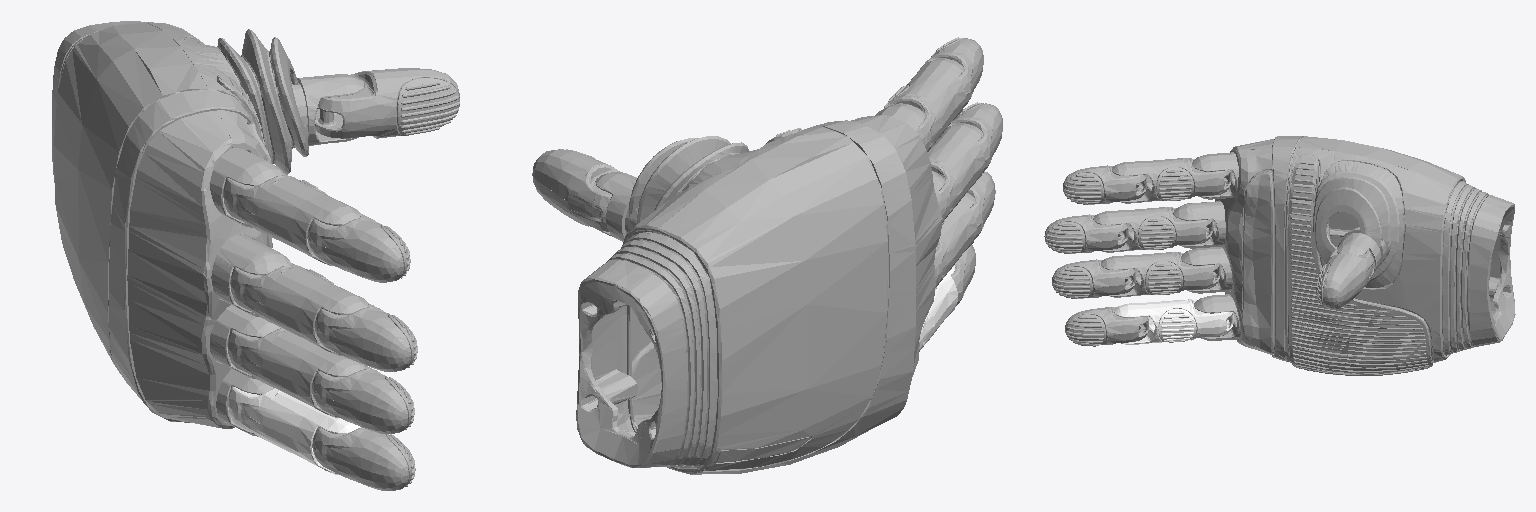
The robot description file, URDF, robot "walkerx_rhand":
<?xml version="1.0" encoding="utf-8"?>
<robot
  name="walkerx_rhand">
  <link name="world"/>

  <link
    name="rhandbase_link">
    <inertial>
      <origin
        xyz="-0.377843 -0.239831 -0.010788"
        rpy="0 0 0" />
      <mass
        value="0.593" />
      <inertia
        ixx="1.30E-03"
        ixy="2.47E-04"
        ixz="-1.57E-05"
        iyy="5.23E-04"
        iyz="-1.29E-05"
        izz="1.06E-03" />
    </inertial>
    <visual>
      <origin
        xyz="0 0 0"
        rpy="0 0 0" />
      <geometry>
        <mesh
          filename="package://walkerx_rhand/meshes/base.obj" />
      </geometry>
      <material
        name="">
        <color
          rgba="0.75294 0.75294 0.75294 1" />
      </material>
    </visual>
    <collision>
      <origin
        xyz="-0.378 -0.24 -0.009"
        rpy="0 0 -0.261799" />
      <geometry>
        <box size = "0.05 0.14 0.1" />
      </geometry>
    </collision>
  </link>

  <joint
    name="base"
    type="fixed">
    <origin
      xyz="0.3631635 0.1889378 0.010499"
      rpy="0 0 0" />
    <parent
      link="world" />
    <child
      link="rhandbase_link" />
    <axis
      xyz="0 0 0" />
  </joint>


  <link
    name="rfirstfinger1_1">
    <inertial>
      <origin
        xyz="0.016949 -0.005689 -0.0016081"
        rpy="0 0 0" />
      <mass
        value="0.001" />
      <inertia
        ixx="1.0E-09"
        ixy="1.0E-09"
        ixz="1.0E-09"
        iyy="1.0E-09"
        iyz="1.0E-09"
        izz="1.0E-09" />
    </inertial>    
    <collision>
      <origin
        xyz="0 0 0"
        rpy="0 0 0" />
      <geometry>
        <sphere radius="0.001" />
      </geometry>
    </collision>
  </link>
  <joint
    name="rfirst1_1"
    type="revolute">
    <origin
      xyz="-0.36621 -0.23404 0.01213"
      rpy="0 0 0" />
    <parent
      link="rhandbase_link" />
    <child
      link="rfirstfinger1_1" />
    <axis
      xyz="-0.068161 -0.99767 0" />
    <limit
      lower="-0.5"
      upper="0.5"
      effort="0.5"
      velocity="3.14" />
  </joint>
  <link
    name="rfirstfinger1_2">
    <inertial>
      <origin
        xyz="0.016949 -0.005689 -0.0016081"
        rpy="0 0 0" />
      <mass
        value="0.001" />
      <inertia
        ixx="1.0E-09"
        ixy="1.0E-09"
        ixz="1.0E-09"
        iyy="1.0E-09"
        iyz="1.0E-09"
        izz="1.0E-09" />
    </inertial>    
    <collision>
      <origin
        xyz="0 0 0"
        rpy="0 0 0" />
      <geometry>
        <sphere radius="0.001" />
      </geometry>
    </collision>
  </link>
  <joint
    name="rfirst1_2"
    type="revolute">
    <origin
      xyz="0 0 0"
      rpy="0 0 0" />
    <parent
      link="rfirstfinger1_1" />
    <child
      link="rfirstfinger1_2" />
    <axis
      xyz="0 0 1" />      
    <limit
      lower="-0.5"
      upper="0.5"
      effort="0.5"
      velocity="3.14" />
  </joint>
  <link
    name="rfirstfinger1_3">
    <inertial>
      <origin
        xyz="0.016949 -0.005689 -0.0016081"
        rpy="0 0 0" />
      <mass
        value="0.033" />
      <inertia
        ixx="2.55E-06"
        ixy="-1.98E-06"
        ixz="1.06E-06"
        iyy="1.24E-05"
        iyz="-3.55E-07"
        izz="1.27E-05" />
    </inertial>
    <visual>
      <origin
        xyz="0.36621 0.23404 -0.01213"
        rpy="0 0 0" />
      <geometry>
        <mesh
          filename="package://walkerx_rhand/meshes/rfirstfinger1.obj" />
      </geometry>
      <material
        name="">
        <color
          rgba="0.75294 0.75294 0.75294 1" />
      </material>
    </visual>
    <collision>
      <origin
        xyz="0.03021 -0.00796 -0.00013"
        rpy="1.5708 0 1.2" />
      <geometry>
        <cylinder radius="0.011" length="0.046" />
      </geometry>
    </collision>
  </link>
  <joint
    name="rfirst1_3"
    type="revolute">
    <origin
      xyz="0 0 0"
      rpy="0 0 0" />
    <parent
      link="rfirstfinger1_2" />
    <child
      link="rfirstfinger1_3" />
    <axis
      xyz="0.99767 -0.068161 0" />
    <limit
      lower="-0.5"
      upper="0.5"
      effort="0.5"
      velocity="3.14" />
  </joint>
  <link
    name="rfirstfinger2">
    <inertial>
      <origin
        xyz="0.012578 -0.0046607 -0.0095932"
        rpy="0 0 0" />
      <mass
        value="0.012856" />
      <inertia
        ixx="9.85E-07"
        ixy="-4.99E-07"
        ixz="-1.00E-09"
        iyy="2.29E-06"
        iyz="0.0"
        izz="2.48E-06" />
    </inertial>
    <visual>
      <origin
        xyz="0.318125 0.247745 -0.02173"
        rpy="0 0 0" />
      <geometry>
        <mesh
          filename="package://walkerx_rhand/meshes/rfirstfinger2.obj" />
      </geometry>
      <material
        name="">
        <color
          rgba="0.75294 0.75294 0.75294 1" />
      </material>
    </visual>
    <collision>
      <origin
        xyz="0.014125 -0.00426 -0.00973"
        rpy="1.5708 0 1.2" />
      <geometry>
        <cylinder radius="0.011" length="0.033" />
      </geometry>
    </collision>
  </link>
  <joint
    name="rfirst2"
    type="revolute">
    <origin
      xyz="0.048085 -0.013705 0.0096"
      rpy="0 0 0" />
    <parent
      link="rfirstfinger1_3" />
    <child
      link="rfirstfinger2" />
    <axis
      xyz="0 0 -1" />
    <limit
      lower="-0.000001"
      upper="1.66"
      effort="0.5"
      velocity="3.14" />
  </joint>
  <link
    name="rsecondfinger1">
    <inertial>
      <origin
        xyz="0.0016093 -0.0062649 0.0089807"
        rpy="0 0 0" />
      <mass
        value="0.02621" />
      <inertia
        ixx="1.25E-05"
        ixy="-1.71E-06"
        ixz="3.00E-09"
        iyy="1.34E-06"
        iyz="-1.20E-08"
        izz="1.28E-05" />
    </inertial>
    <visual>
      <origin
        xyz="0.38785 0.3148 -0.01693"
        rpy="0 0 0" />
      <geometry>
        <mesh
          filename="package://walkerx_rhand/meshes/rsecondfinger1.obj" />
      </geometry>
      <material
        name="">
        <color
          rgba="0.75294 0.75294 0.75294 1" />
      </material>
    </visual>
    <collision>
      <origin
        xyz="0.00385 -0.0202 0.008982"
        rpy="1.5708 0 0.18" />
      <geometry>
        <cylinder radius="0.011" length="0.0505" />
      </geometry>
    </collision>
  </link>
  <joint
    name="rsecond1"
    type="revolute">
    <origin
      xyz="-0.38785 -0.3148 0.01693"
      rpy="0 0 0" />
    <parent
      link="rhandbase_link" />
    <child
      link="rsecondfinger1" />
    <axis
      xyz="0 0 1" />
    <limit
      lower="-0.000001"
      upper="1.66"
      effort="0.5"
      velocity="3.14" />
  </joint>
  <link
    name="rsecondfinger2">
    <inertial>
      <origin
        xyz="0.0013967 -0.0098864 -0.0085299"
        rpy="0 0 0" />
      <mass
        value="0.0077518" />
      <inertia
        ixx="9.79E-07"
        ixy="-1.17E-07"
        ixz="1.00E-09"
        iyy="3.68E-07"
        iyz="-2.00E-09"
        izz="1.00E-06" />
    </inertial>
    <visual>
      <origin
        xyz="0.3811324 0.353725 -0.03443"
        rpy="0 0 0" />
      <geometry>
        <mesh
          filename="package://walkerx_rhand/meshes/rsecondfinger2.obj" />
      </geometry>
      <material
        name="">
        <color
          rgba="0.75294 0.75294 0.75294 1" />
      </material>
    </visual>
    <collision>
      <origin
        xyz="0.002232 -0.00977 -0.00853"
        rpy="1.5708 0 0.18" />
      <geometry>
        <cylinder radius="0.011" length="0.034" />
      </geometry>
    </collision>
  </link>
  <joint
    name="rsecond2"
    type="revolute">
    <origin
      xyz="0.0067176 -0.038925 0.0175"
      rpy="0 0 0" />
    <parent
      link="rsecondfinger1" />
    <child
      link="rsecondfinger2" />
    <axis
      xyz="0 0 1" />
    <limit
      lower="-0.000001"
      upper="1.66"
      effort="0.5"
      velocity="3.14" />
  </joint>
  <link
    name="rthirdfinger1">
    <inertial>
      <origin
        xyz="0.0016093 -0.0062648 0.0089807"
        rpy="0 0 0" />
      <mass
        value="0.02621" />
      <inertia
        ixx="1.25E-05"
        ixy="-1.71E-06"
        ixz="3.00E-09"
        iyy="1.34E-06"
        iyz="-1.20E-08"
        izz="1.28E-05" />
    </inertial>
    <visual>
      <origin
        xyz="0.39021 0.32349 0.0097698"
        rpy="0 0 0" />
      <geometry>
        <mesh
          filename="package://walkerx_rhand/meshes/rthirdfinger1.obj" />
      </geometry>
      <material
        name="">
        <color
          rgba="0.75294 0.75294 0.75294 1" />
      </material>
    </visual>
    <collision>
      <origin
        xyz="0.00321 -0.01951 0.008982"
        rpy="1.5708 0 0.18" />
      <geometry>
        <cylinder radius="0.011" length="0.0505" />
      </geometry>
    </collision>
  </link>
  <joint
    name="rthird1"
    type="revolute">
    <origin
      xyz="-0.39021 -0.32349 -0.0097698"
      rpy="0 0 0" />
    <parent
      link="rhandbase_link" />
    <child
      link="rthirdfinger1" />
    <axis
      xyz="0 0 1" />
    <limit
      lower="-0.000001"
      upper="1.66"
      effort="0.5"
      velocity="3.14" />
  </joint>
  <link
    name="rthirdfinger2">
    <inertial>
      <origin
        xyz="0.00139671105362882 -0.00988639056498997 -0.00852984415019046"
        rpy="0 0 0" />
      <mass
        value="0.00775190710725793" />
      <inertia
        ixx="9.79E-07"
        ixy="-1.17E-07"
        ixz="1.00E-09"
        iyy="3.68E-07"
        iyz="-2.00E-09"
        izz="1.00E-06" />
    </inertial>
    <visual>
      <origin
        xyz="0.3834924 0.362415 -0.0077302"
        rpy="0 0 0" />
      <geometry>
        <mesh
          filename="package://walkerx_rhand/meshes/rthirdfinger2.obj" />
      </geometry>
      <material
        name="">
        <color
          rgba="0.752941176470588 0.752941176470588 0.752941176470588 1" />
      </material>
    </visual>
    <collision>
      <origin
        xyz="0.001399 -0.00988 -0.00853"
        rpy="1.5708 0 0.18" />
      <geometry>
        <cylinder radius="0.011" length="0.034" />
      </geometry>
    </collision>
  </link>
  <joint
    name="rthird2"
    type="revolute">
    <origin
      xyz="0.0067176 -0.038925 0.0175"
      rpy="0 0 0" />
    <parent
      link="rthirdfinger1" />
    <child
      link="rthirdfinger2" />
    <axis
      xyz="0 0 1" />
    <limit
      lower="-0.000001"
      upper="1.66"
      effort="0.5"
      velocity="3.14" />
  </joint>
  <link
    name="rfourthfinger1">
    <inertial>
      <origin
        xyz="0.0016091 -0.0062651 0.0089807"
        rpy="0 0 0" />
      <mass
        value="0.02621" />
      <inertia
        ixx="1.25E-05"
        ixy="-1.71E-06"
        ixz="3.00E-09"
        iyy="1.34E-06"
        iyz="-1.20E-08"
        izz="1.28E-05" />
    </inertial>
    <visual>
      <origin
        xyz="0.38926 0.32001 0.03277"
        rpy="0 0 0" />
      <geometry>
        <mesh
          filename="package://walkerx_rhand/meshes/rfourthfinger1.obj" />
      </geometry>
      <material
        name="">
        <color
          rgba="0.75294 0.75294 0.75294 1" />
      </material>
    </visual>
    <collision>
      <origin
        xyz="0.00326 -0.01899 0.008982"
        rpy="1.5708 0 0.18" />
      <geometry>
        <cylinder radius="0.011" length="0.0505" />
      </geometry>
    </collision>
  </link>
  <joint
    name="rfourth1"
    type="revolute">
    <origin
      xyz="-0.38926 -0.32001 -0.03277"
      rpy="0 0 0" />
    <parent
      link="rhandbase_link" />
    <child
      link="rfourthfinger1" />
    <axis
      xyz="0 0 1" />
    <limit
      lower="-0.000001"
      upper="1.66"
      effort="0.5"
      velocity="3.14" />
  </joint>
  <link
    name="rfourthfinger2">
    <inertial>
      <origin
        xyz="0.0014007 -0.0098858 -0.0085299"
        rpy="0 0 0" />
      <mass
        value="0.0077518" />
      <inertia
        ixx="9.79E-07"
        ixy="-1.17E-07"
        ixz="1.00E-09"
        iyy="3.68E-07"
        iyz="-2.00E-09"
        izz="1.00E-06" />
    </inertial>
    <visual>
      <origin
        xyz="0.3825424 0.358935 0.01527"
        rpy="0 0 0" />
      <geometry>
        <mesh
          filename="package://walkerx_rhand/meshes/rfourthfinger2.obj" />
      </geometry>
      <material
        name="">
        <color
          rgba="0.75294 0.75294 0.75294 1" />
      </material>
    </visual>
    <collision>
      <origin
        xyz="0.001397 -0.00989 -0.00853"
        rpy="1.5708 0 0.18" />
      <geometry>
        <cylinder radius="0.011" length="0.034" />
      </geometry>
    </collision>
  </link>
  <joint
    name="rfourth2"
    type="revolute">
    <origin
      xyz="0.0067176 -0.038925 0.0175"
      rpy="0 0 0" />
    <parent
      link="rfourthfinger1" />
    <child
      link="rfourthfinger2" />
    <axis
      xyz="0 0 1" />
    <limit
      lower="-0.000001"
      upper="1.66"
      effort="0.5"
      velocity="3.14" />
  </joint>
  <link
    name="rfifthfinger1">
    <inertial>
      <origin
        xyz="0.001609 -0.006244 0.008981"
        rpy="0 0 0" />
      <mass
        value="0.026" />
      <inertia
        ixx="1.25E-05"
        ixy="-1.71E-06"
        ixz="3.00E-09"
        iyy="1.34E-06"
        iyz="-1.20E-08"
        izz="1.28E-05" />
    </inertial>
    <visual>
      <origin
        xyz="0.3855 0.31378 0.05577"
        rpy="0 0 0" />
      <geometry>
        <mesh
          filename="package://walkerx_rhand/meshes/rfifthfinger1.obj" />
      </geometry>
      <material
        name="">
        <color
          rgba="1 1 1 1" />
      </material>
    </visual>
    <collision>
      <origin
        xyz="0.0035 -0.01922 0.008982"
        rpy="1.5708 0 0.18" />
      <geometry>
        <cylinder radius="0.011" length="0.0505" />
      </geometry>
    </collision>
  </link>
  <joint
    name="rfifth1"
    type="revolute">
    <origin
      xyz="-0.3855 -0.31378 -0.05577"
      rpy="0 0 0" />
    <parent
      link="rhandbase_link" />
    <child
      link="rfifthfinger1" />
    <axis
      xyz="0 0 1" />
    <limit
      lower="-0.000001"
      upper="1.66"
      effort="0.5"
      velocity="3.14" />
  </joint>
  <link
    name="rfifthfinger2">
    <inertial>
      <origin
        xyz="0.0014006 -0.0098858 -0.0085299"
        rpy="0 0 0" />
      <mass
        value="0.0077518" />
      <inertia
        ixx="9.79E-07"
        ixy="-1.17E-07"
        ixz="1.00E-09"
        iyy="3.68E-07"
        iyz="-2.00E-09"
        izz="1.00E-06" />
    </inertial>
    <visual>
      <origin
        xyz="0.3787824 0.352705 0.03827"
        rpy="0 0 0" />
      <geometry>
        <mesh
          filename="package://walkerx_rhand/meshes/rfifthfinger2.obj" />
      </geometry>
      <material
        name="">
        <color
          rgba="0.75294 0.75294 0.75294 1" />
      </material>
    </visual>
    <collision>
      <origin
        xyz="0.001404 -0.00989 -0.00853"
        rpy="1.5708 0 0.18" />
      <geometry>
        <cylinder radius="0.011" length="0.033" />
      </geometry>
    </collision>
  </link>
  <joint
    name="rfifth2"
    type="revolute">
    <origin
      xyz="0.0067176 -0.038925 0.0175"
      rpy="0 0 0" />
    <parent
      link="rfifthfinger1" />
    <child
      link="rfifthfinger2" />
    <axis
      xyz="0 0 1" />
    <limit
      lower="-0.000001"
      upper="1.66"
      effort="0.5"
      velocity="3.14" />
  </joint>
</robot>

--- Facts derived from the render (not from the file) ---
Views: 3 orthographic renders of the robot side by side, from view 1: azimuth 30°, elevation 25°; view 2: azimuth 150°, elevation 25°; view 3: azimuth 270°, elevation 25°.
Model walkerx_rhand with 14 links and 13 joints (12 revolute, 1 fixed), rooted at world, posed all joints at 0.
Links seen in each view (by area): view 1: rhandbase_link, rfirstfinger2, rthirdfinger1, rsecondfinger1, rfourthfinger1, rfifthfinger1, rsecondfinger2, rfourthfinger2, rthirdfinger2, rfifthfinger2, rfirstfinger1_3; view 2: rhandbase_link, rfirstfinger2, rsecondfinger1, rthirdfinger1, rfourthfinger1, rfirstfinger1_3, rsecondfinger2, rthirdfinger2, rfifthfinger1, rfourthfinger2, rfifthfinger2; view 3: rhandbase_link, rfourthfinger1, rsecondfinger1, rfifthfinger1, rthirdfinger1, rsecondfinger2, rthirdfinger2, rfourthfinger2, rfifthfinger2, rfirstfinger2, rfirstfinger1_3.
Link boxes in pixels (box(x1,y1,x2,y2)): rhandbase_link: box(52, 21, 308, 436); rfirstfinger2: box(315, 68, 459, 138); rthirdfinger1: box(230, 263, 368, 355); rsecondfinger1: box(223, 173, 360, 266); rfourthfinger1: box(227, 328, 365, 417); rfifthfinger1: box(228, 386, 360, 474); rsecondfinger2: box(307, 214, 410, 282); rfourthfinger2: box(312, 365, 414, 433); rthirdfinger2: box(315, 303, 417, 371); rfifthfinger2: box(312, 427, 415, 490); rfirstfinger1_3: box(291, 74, 364, 148); rhandbase_link: box(576, 103, 945, 474); rfirstfinger2: box(532, 149, 619, 231); rsecondfinger1: box(884, 58, 965, 151); rthirdfinger1: box(928, 123, 984, 221); rfourthfinger1: box(934, 193, 976, 286); rfirstfinger1_3: box(595, 172, 673, 241); rsecondfinger2: box(925, 37, 983, 106); rthirdfinger2: box(948, 102, 1002, 172); rfifthfinger1: box(919, 265, 957, 351); rfourthfinger2: box(967, 171, 995, 238); rfifthfinger2: box(951, 245, 975, 305); rhandbase_link: box(1173, 136, 1515, 375); rfourthfinger1: box(1101, 252, 1220, 297); rsecondfinger1: box(1112, 158, 1231, 203); rfifthfinger1: box(1114, 299, 1233, 344); rthirdfinger1: box(1093, 207, 1213, 252); rsecondfinger2: box(1063, 165, 1146, 204); rthirdfinger2: box(1044, 214, 1128, 253); rfourthfinger2: box(1052, 259, 1135, 298); rfifthfinger2: box(1065, 307, 1148, 346); rfirstfinger2: box(1316, 249, 1374, 309); rfirstfinger1_3: box(1337, 227, 1391, 271).
Bounding box of the posed robot: 0.1329 × 0.2226 × 0.1113 m (x, y, z).
Meshes: 11 distinct files referenced, 11 mesh visuals loaded (11 OBJ).
